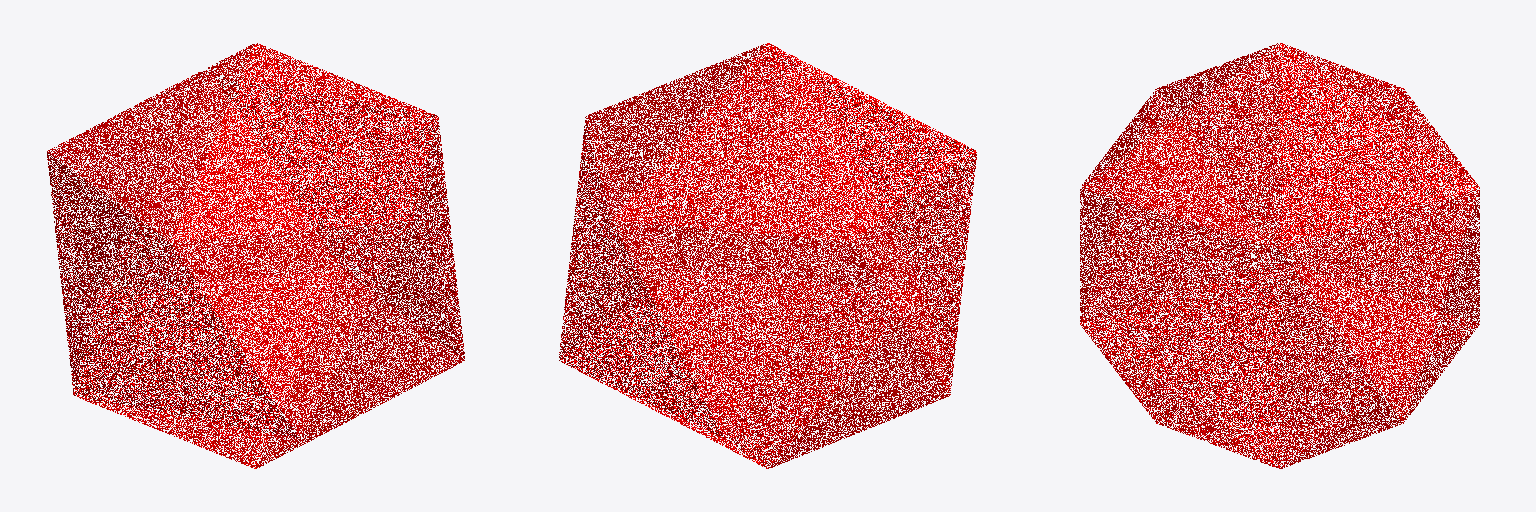
The picture shows the model from 3 angles: view 1: azimuth 30°, elevation 25°; view 2: azimuth 150°, elevation 25°; view 3: azimuth 270°, elevation 25°; orthographic projection.
Visible parts, largest first — view 1: Icosphere.003; view 2: Icosphere.003; view 3: Icosphere.003.
Boxes of the visible parts, <box> form: Icosphere.003: <box>47,43,464,468</box>; Icosphere.003: <box>559,43,976,468</box>; Icosphere.003: <box>1080,43,1479,468</box>.
Size of the model in its own units: 0.1789 by 0.2 by 0.1701.
Materials: 1 (1 with a texture image).